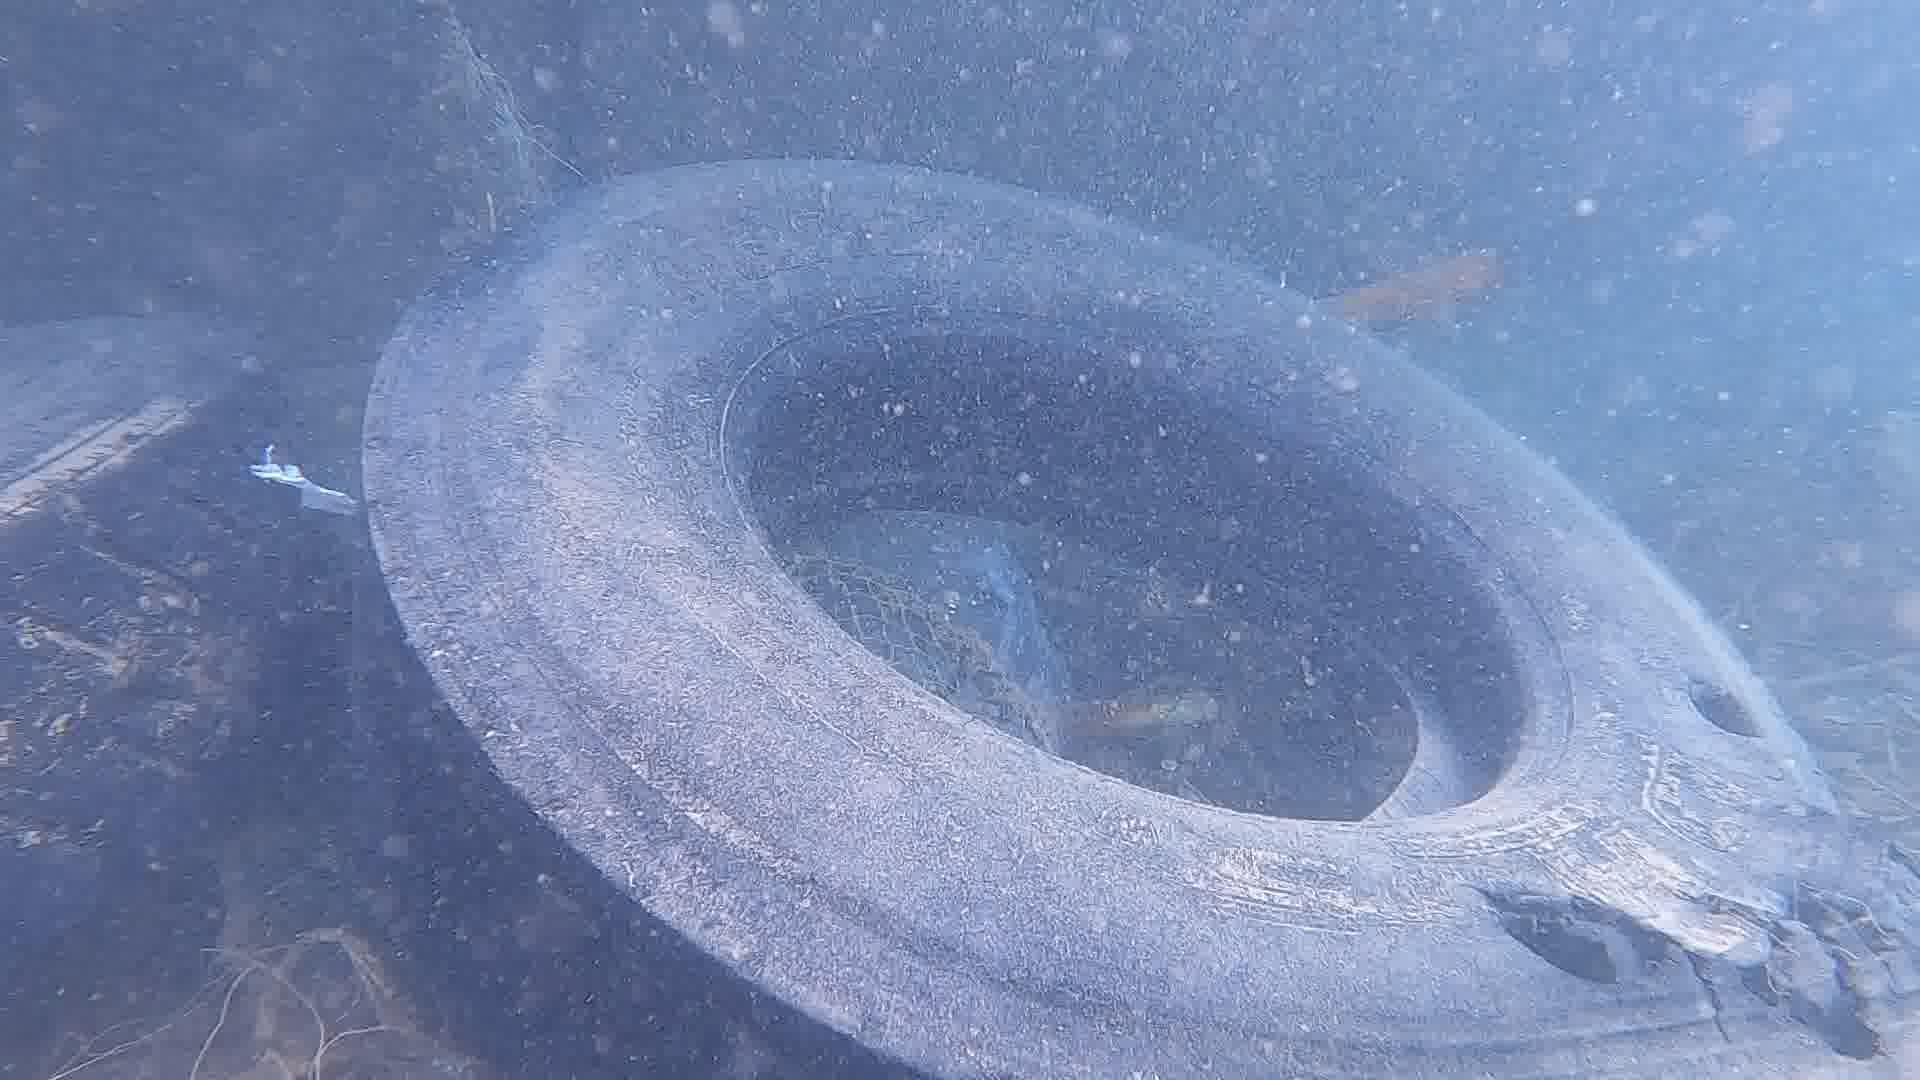tire: (353, 156, 1920, 1080)
